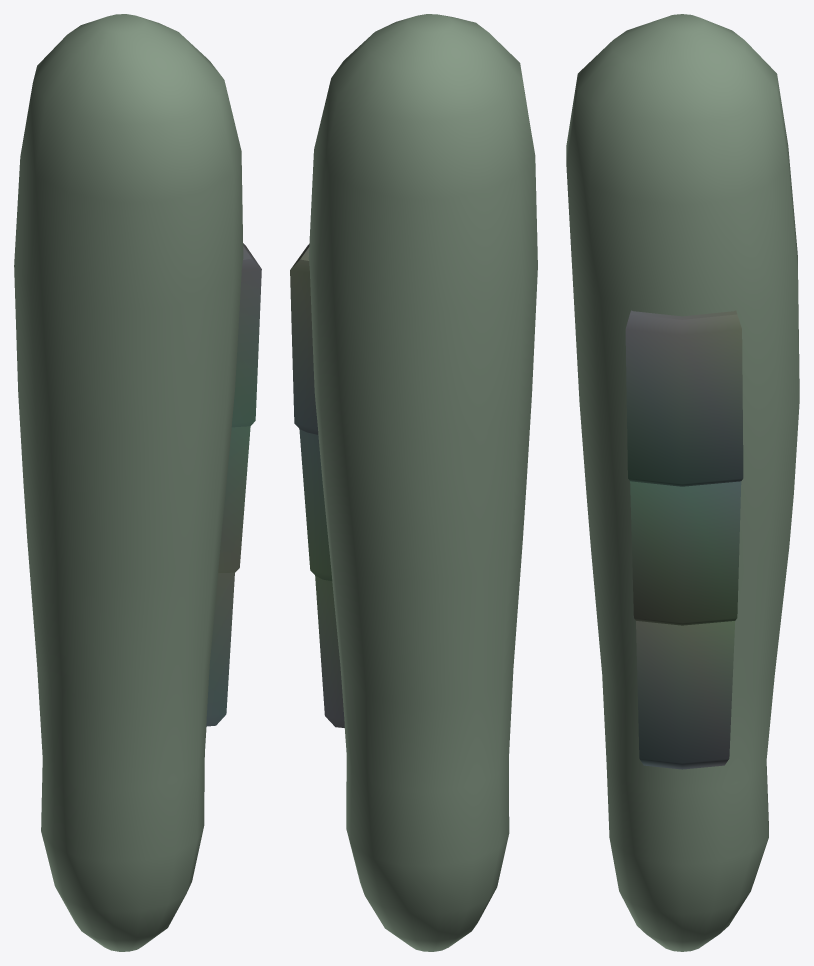
The model's file is thigh_r.glb.
The picture shows the model from 3 angles, left to right: view 1: azimuth 30°, elevation 25°; view 2: azimuth 150°, elevation 25°; view 3: azimuth 270°, elevation 25°; orthographic projection.
Parts seen in each view (by area): view 1: OUT; view 2: OUT; view 3: OUT.
Boxes of the visible parts, x1,y1,x2,y2 form: OUT: [14, 14, 261, 951]; OUT: [290, 14, 537, 951]; OUT: [566, 14, 799, 951].
Size of the model in its own units: 0.1233 by 0.504 by 0.1158.
